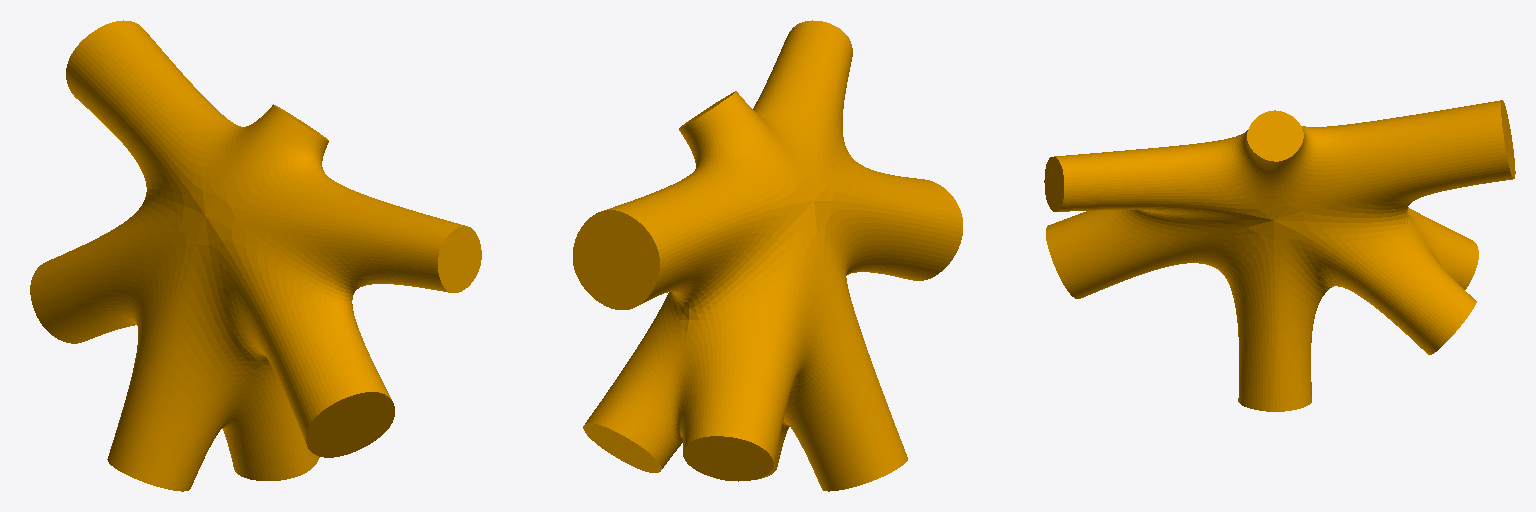
URDF robot description (object):
<robot name="object">
  <link name="object">
    <visual>
      <origin xyz="0 0 0"/>
      <geometry>
        <mesh filename="visual.obj" scale="1 1 1"/>
      </geometry>
    </visual>
    <collision>
      <origin xyz="0 0 0"/>
      <geometry>
        <mesh filename="visual.obj" scale="1 1 1"/>
      </geometry>
    </collision>
    <inertial>
      <mass value="0.05"/>
      <inertia ixx="0.0002763497371639519" iyy="0.00011492151160139511" izz="0.0002112417620147246" ixy="1.1747115305794909e-05" ixz="-1.8985686815715678e-05" iyz="1.7214184738238979e-06"/>
    </inertial>
  </link>
</robot>

--- What the picture shows (computed from the rendered views, not written in the file) ---
3 views of the same robot in one strip: view 1: azimuth 30°, elevation 25°; view 2: azimuth 150°, elevation 25°; view 3: azimuth 270°, elevation 25° (orthographic).
Model object with 1 links and 0 joints (none), rooted at object, posed every joint at zero.
Visible links, largest first — view 1: object; view 2: object; view 3: object.
Boxes of the visible links, left/top/right/bottom form: object: left=30, top=20, right=481, bottom=491; object: left=573, top=20, right=962, bottom=491; object: left=1044, top=100, right=1515, bottom=411.
Bounding box of the posed robot: 0.1364 × 0.2787 × 0.1931 m (x, y, z).
1 mesh visuals loaded from 1 distinct referenced files (1 OBJ).
